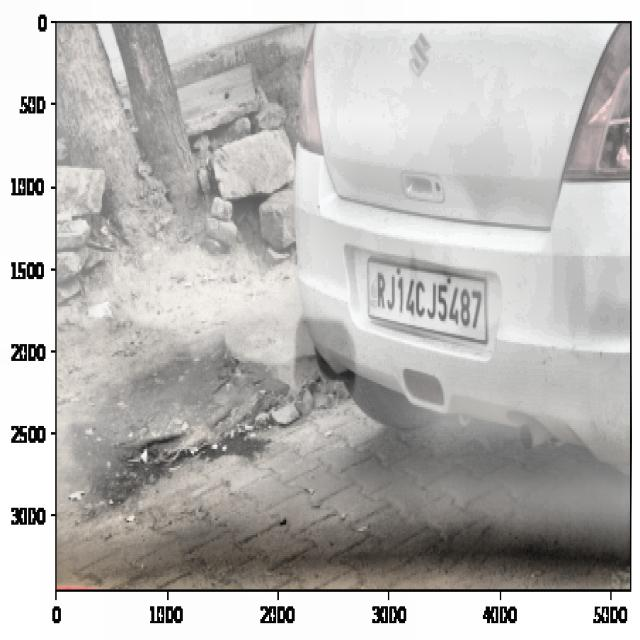license_plate: (371, 268, 487, 340)
